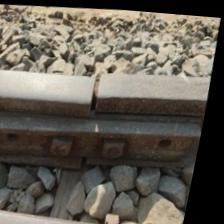person: (48, 47, 150, 128), (75, 145, 106, 172)
